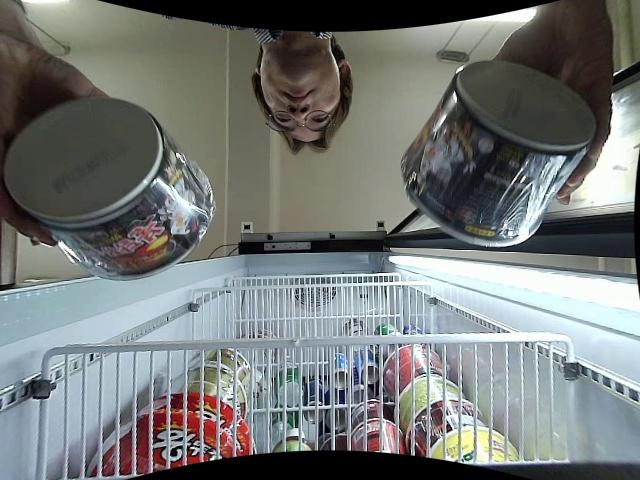00_hand: (0, 33, 110, 249), (492, 23, 615, 203)
07_buldak_L: (3, 93, 215, 278), (398, 55, 592, 249)
